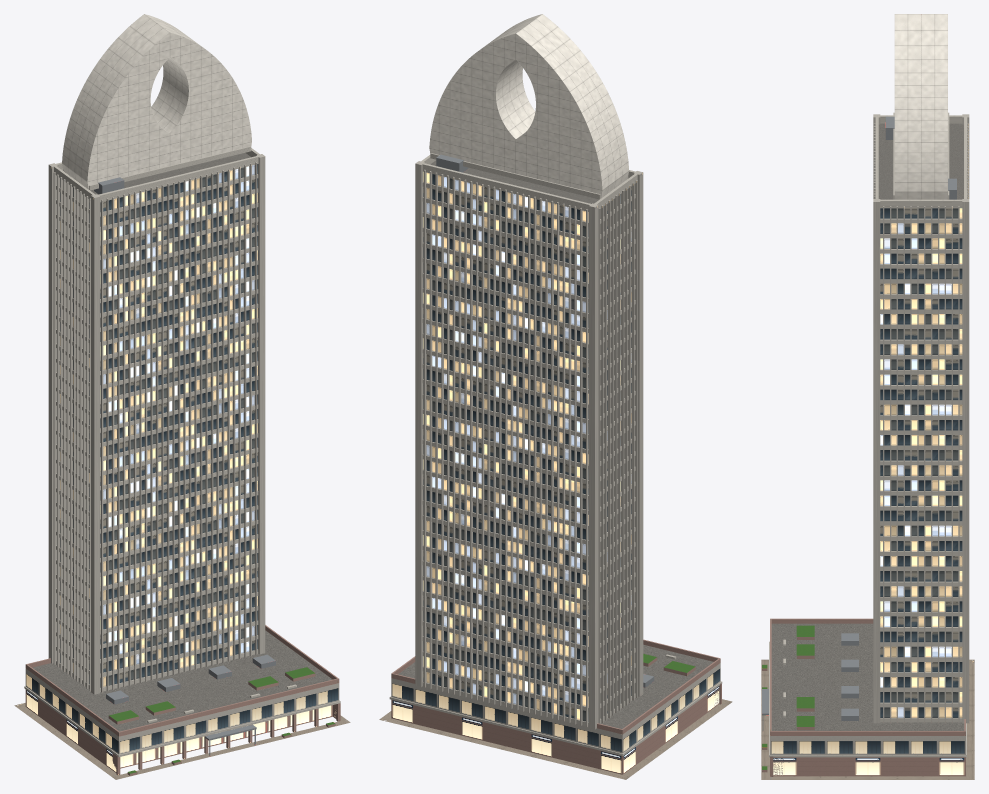
File: CO_EdificioColtejer_8x6.fbx
3 views of the same model, side by side, from view 1: azimuth 30°, elevation 25°; view 2: azimuth 150°, elevation 25°; view 3: azimuth 270°, elevation 25° (orthographic). The views are drawn at different scales.
Visible parts, largest first — view 1: CO_EdificioColtejer_8x6; view 2: CO_EdificioColtejer_8x6; view 3: CO_EdificioColtejer_8x6.
Boxes of the visible parts, x1,y1,x2,y2 form: CO_EdificioColtejer_8x6: (14, 14, 350, 779); CO_EdificioColtejer_8x6: (379, 14, 732, 779); CO_EdificioColtejer_8x6: (761, 14, 974, 779).
Bounding box in the file's own units: 64 × 175 × 48.
1 material, 1 textured.
